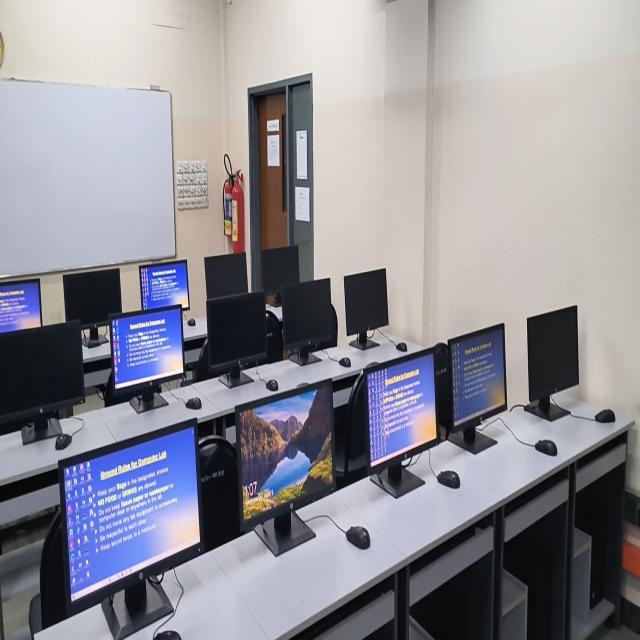Chair: (198, 435, 241, 551), (39, 511, 68, 628), (339, 375, 368, 485), (432, 343, 451, 433), (193, 340, 215, 380), (266, 311, 283, 362)
Cpu: (504, 504, 566, 639), (576, 464, 625, 612), (411, 555, 491, 639)
Fire Extinguisher: (223, 153, 244, 253), (232, 171, 245, 253)
Monitor: (60, 420, 204, 613), (236, 385, 334, 520), (0, 321, 84, 423), (367, 353, 437, 467), (448, 324, 507, 443), (523, 306, 578, 421), (111, 306, 183, 389), (207, 293, 267, 386), (282, 279, 337, 365), (63, 268, 122, 339), (344, 268, 388, 350), (139, 260, 189, 310), (0, 279, 42, 332), (204, 253, 248, 300), (261, 246, 300, 294)
Mouse: (346, 526, 370, 549), (436, 471, 460, 488), (534, 440, 557, 456), (55, 433, 72, 450), (595, 409, 615, 423), (153, 630, 181, 639), (185, 397, 202, 409), (266, 379, 278, 391), (338, 357, 351, 367), (396, 342, 407, 351), (187, 318, 196, 326)
